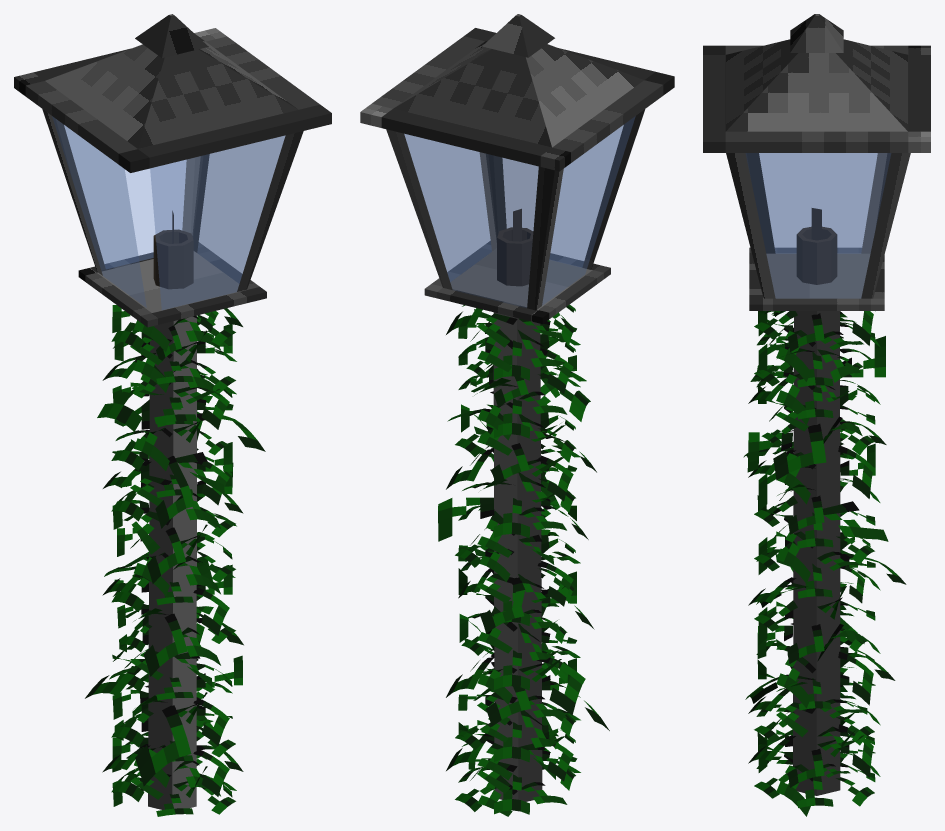
The model's file is lamp_post_889x02.gltf.
The picture shows the model from 3 angles, left to right: view 1: azimuth 30°, elevation 25°; view 2: azimuth 150°, elevation 25°; view 3: azimuth 270°, elevation 25°; orthographic projection. The views are drawn at different scales.
Visible parts, largest first — view 1: lamp_post_889x02, leaves; view 2: lamp_post_889x02, leaves; view 3: lamp_post_889x02, leaves.
Part boxes in pixels (x1,y1,x2,y2): lamp_post_889x02: (14,14,331,809); leaves: (85,305,265,816); lamp_post_889x02: (360,14,674,801); leaves: (438,304,609,816); lamp_post_889x02: (703,14,930,795); leaves: (743,311,906,816).
Size of the model in its own units: 2 by 7.51 by 2.
Materials: 2 (1 with a texture image).
